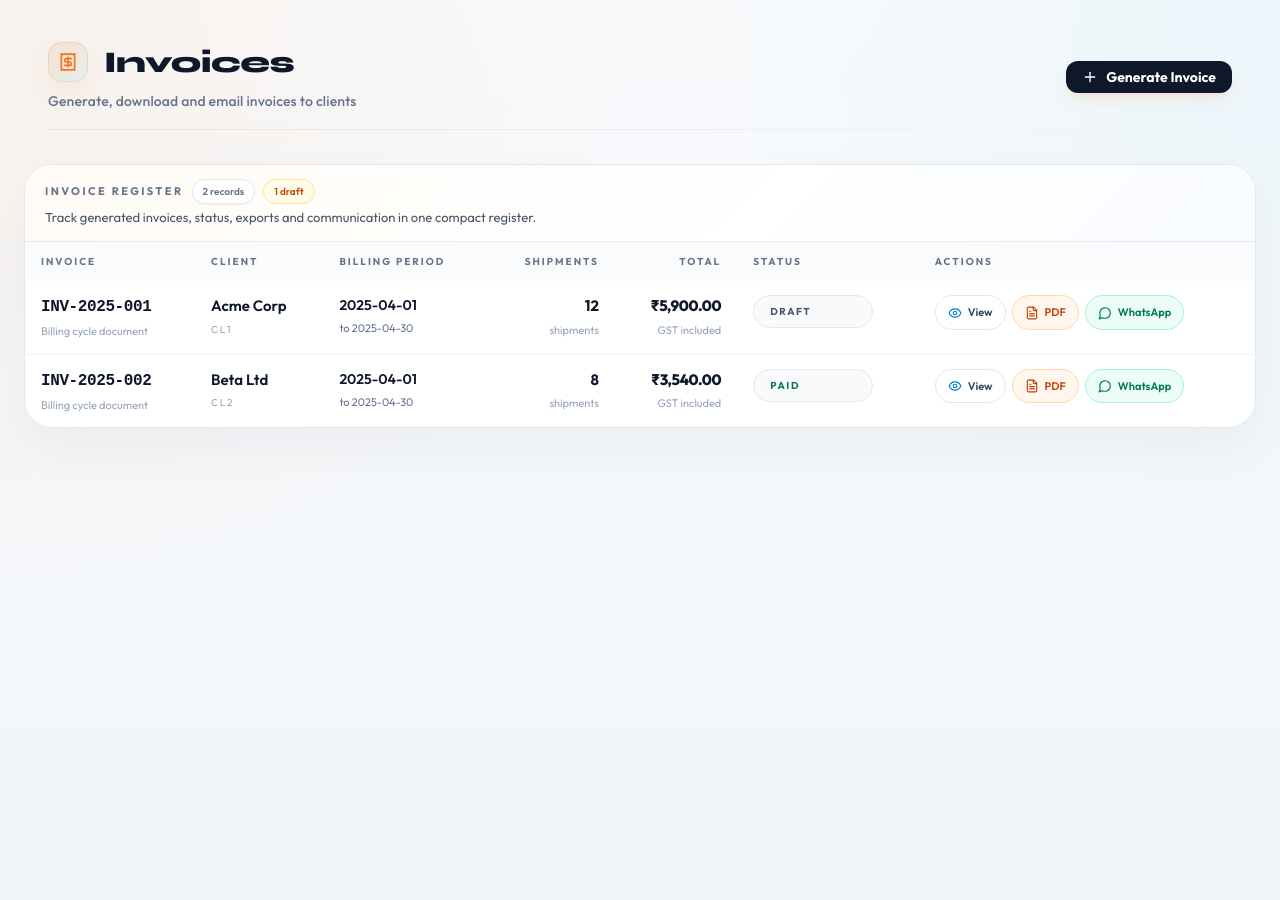
Test case: InvoicesPage › shows the generate invoice button and opens modal
What coordinates should you click on to do the following:
click the button "Generate Invoice"
I would click on:
 (1149, 77)
Its box is [1066,61,1232,93].
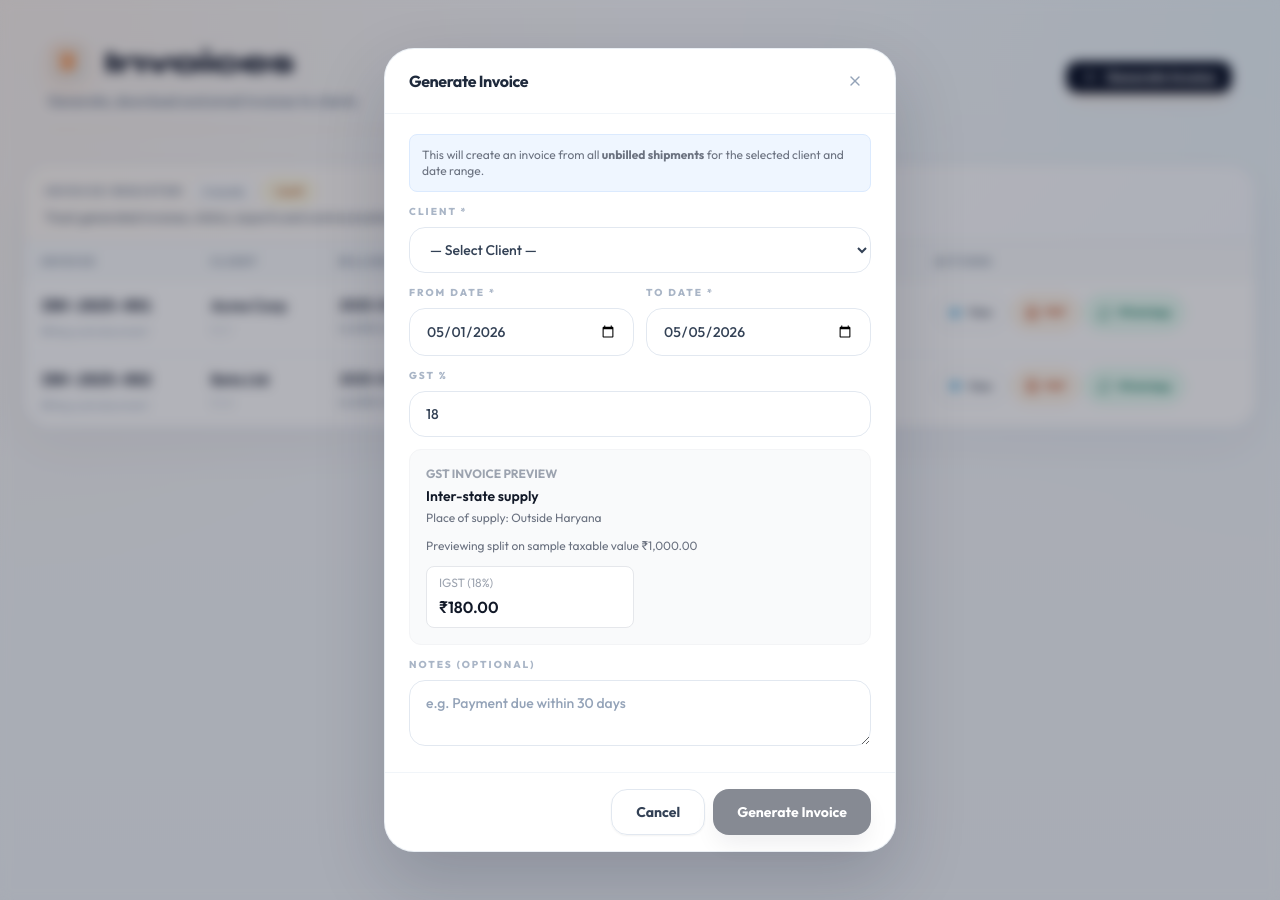
Expected: the text "From Date *" is shown, [409,286,496,299]
Expected: the text "To Date *" is shown, [646,286,714,299]
